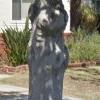Statue: (14, 2, 79, 100)
